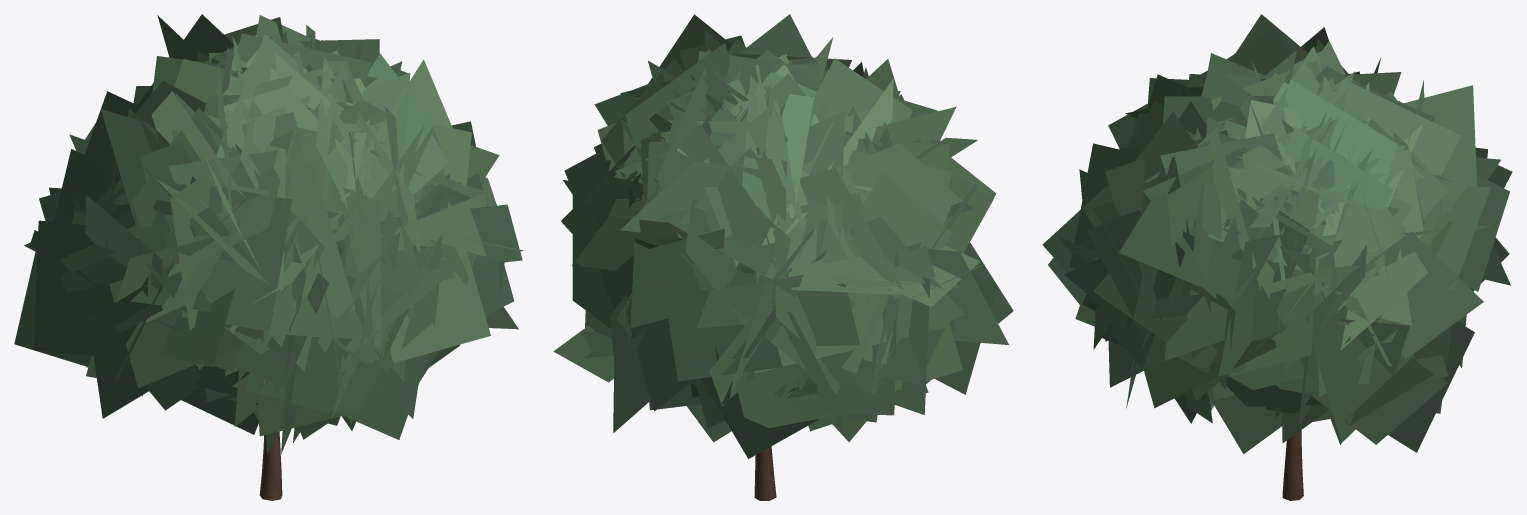
File: pine_1.glb
The picture shows the model from 3 angles, left to right: view 1: azimuth 30°, elevation 25°; view 2: azimuth 150°, elevation 25°; view 3: azimuth 270°, elevation 25°; orthographic projection. The views are drawn at different scales.
Visible parts, largest first — view 1: pine_1; view 2: pine_1; view 3: pine_1.
Part boxes in pixels (x1,y1,x2,y2): pine_1: (14,14,524,500); pine_1: (553,14,1013,500); pine_1: (1042,14,1512,500).
Bounding box in the file's own units: 1 × 1 × 0.9593.
